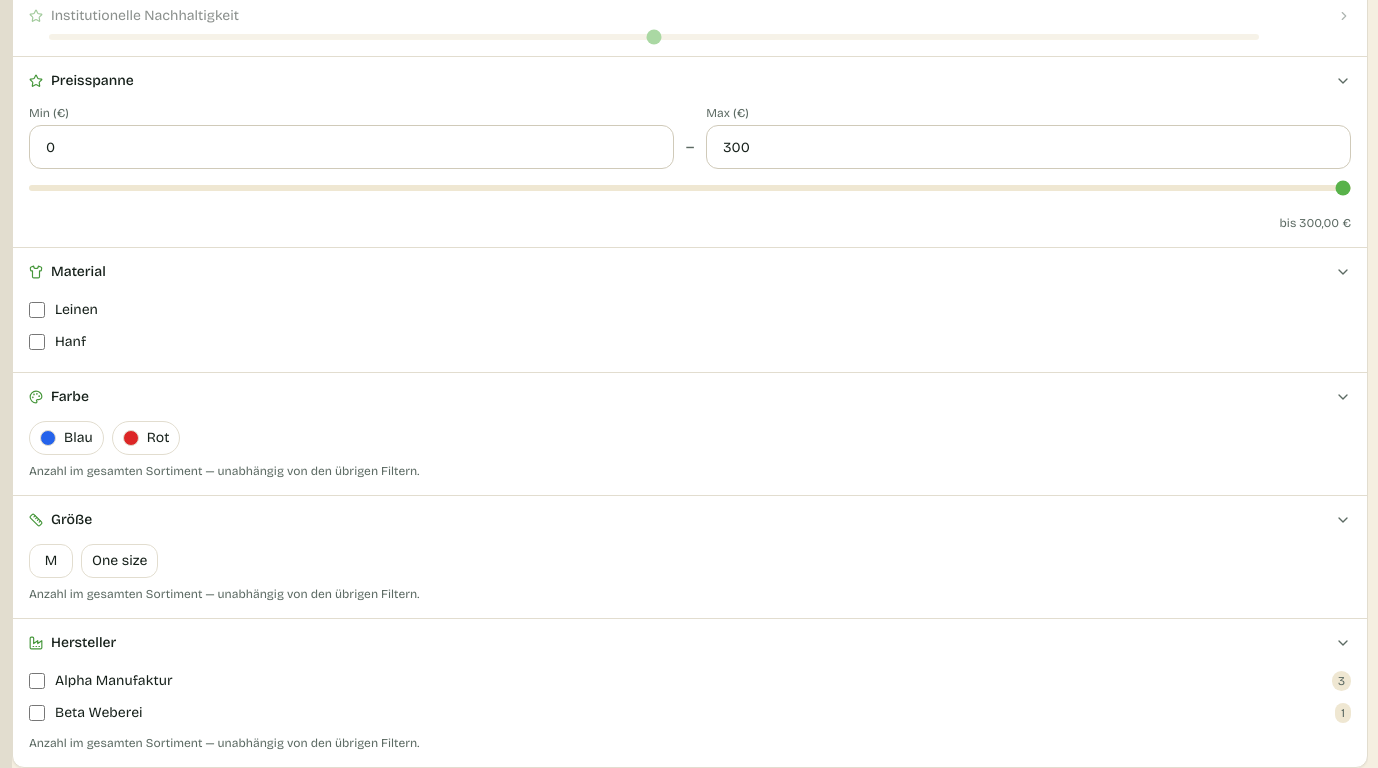
Test: FilterSidebar – Farbe (#49) › collapses and expands the section
(page scrolled)
Click the button "Farbe": (70, 397) [13, 373, 1367, 421]
(page scrolled)
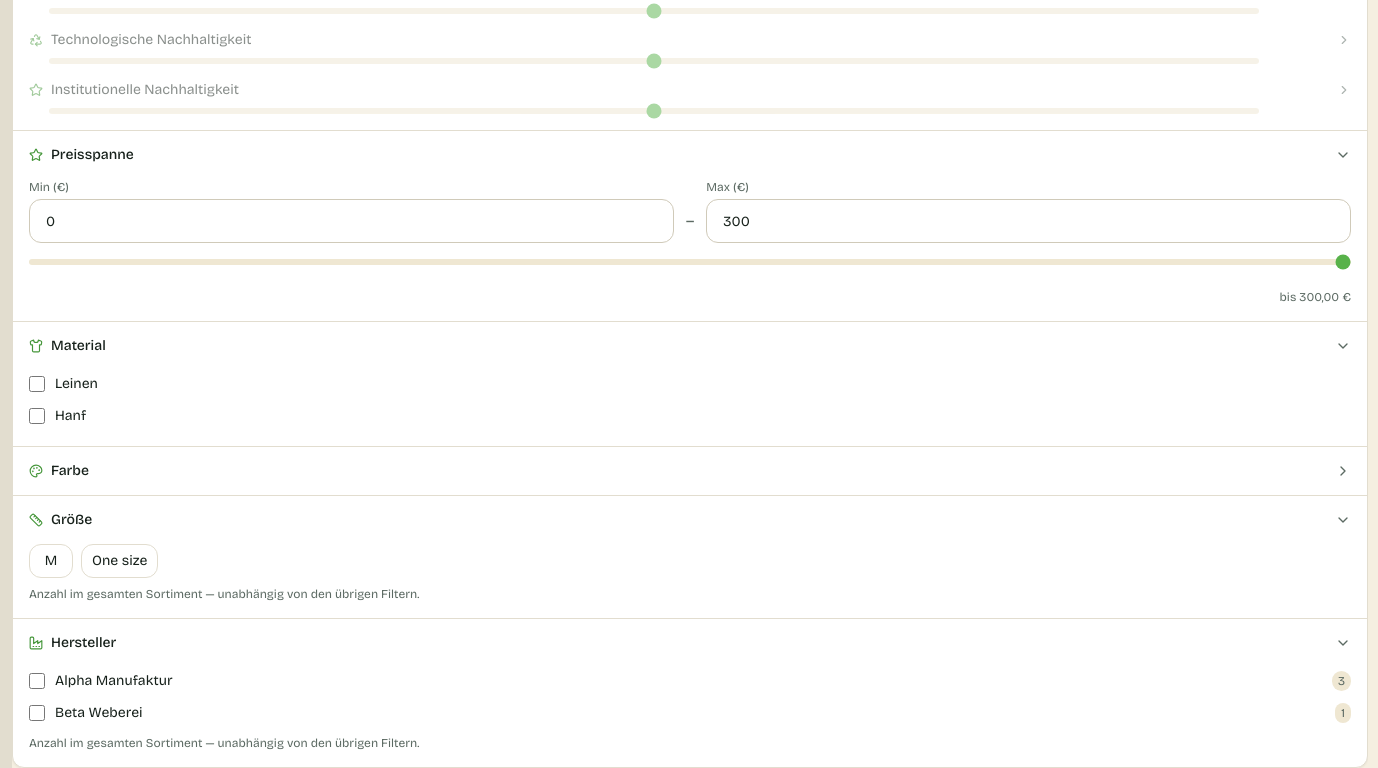
Now the button "Farbe" is collapsed, box [13, 447, 1367, 495]
